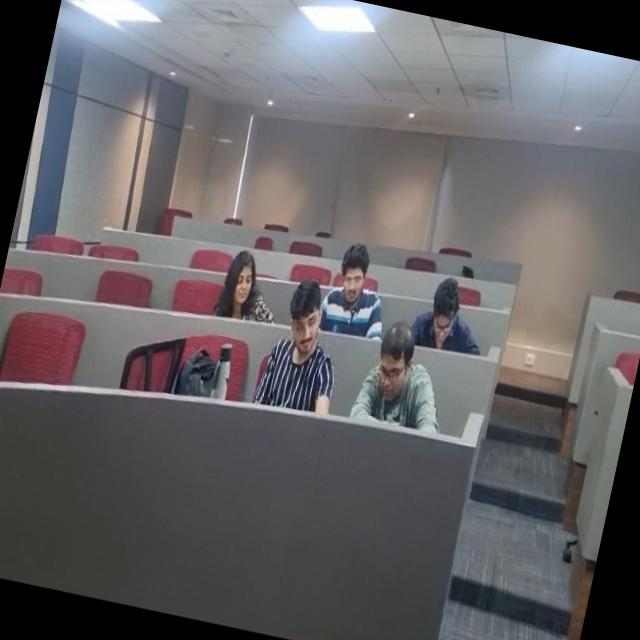cheating: (355, 318, 442, 436), (266, 273, 340, 410)
non-cheating: (318, 236, 384, 343), (402, 275, 488, 354), (207, 242, 279, 332)
